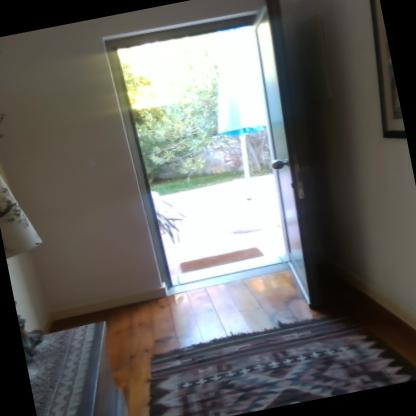open: (78, 7, 330, 330)
